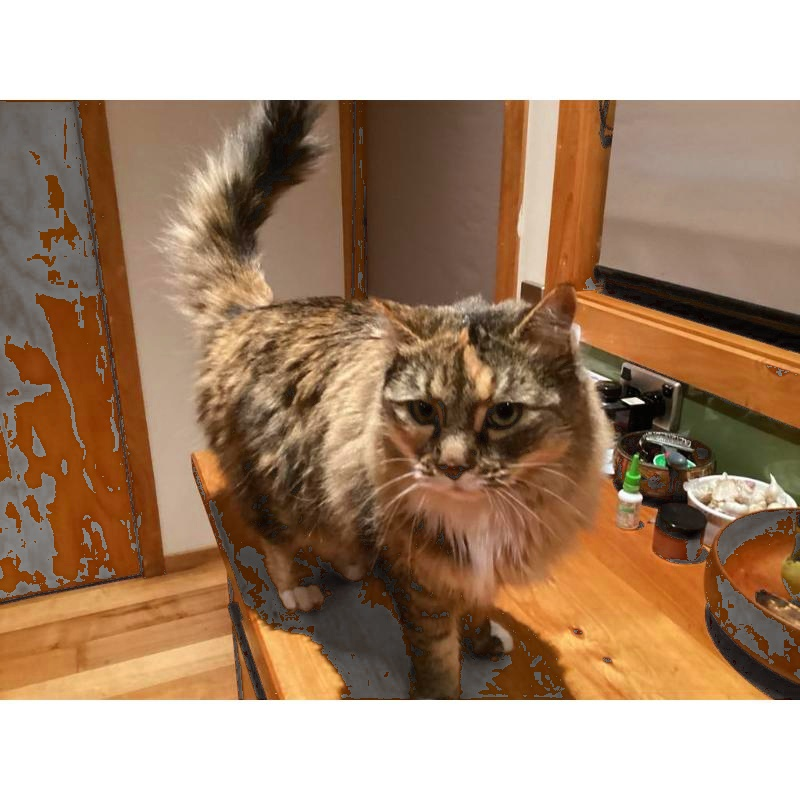yellow: (156, 104, 612, 700)
